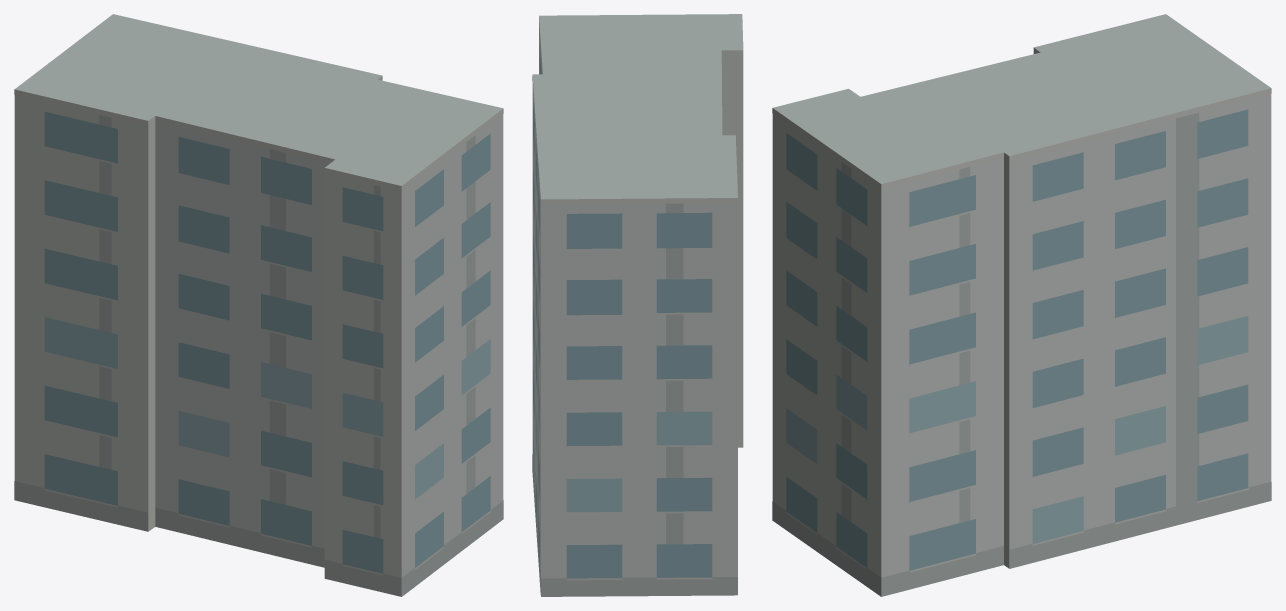
Rendered from survey-upis-32701560.glb.
3 views of the same model, side by side, from view 1: azimuth 30°, elevation 25°; view 2: azimuth 150°, elevation 25°; view 3: azimuth 270°, elevation 25° (orthographic). The views are drawn at different scales.
Visible parts, largest first — view 1: survey-upis-32701560.tmp; view 2: survey-upis-32701560.tmp; view 3: survey-upis-32701560.tmp.
Part boxes in pixels (left/top/right/bottom): survey-upis-32701560.tmp: left=14, top=14, right=503, bottom=596; survey-upis-32701560.tmp: left=532, top=14, right=743, bottom=596; survey-upis-32701560.tmp: left=772, top=14, right=1271, bottom=596.
Size of the model in its own units: 16.02 by 18.1 by 19.85.
